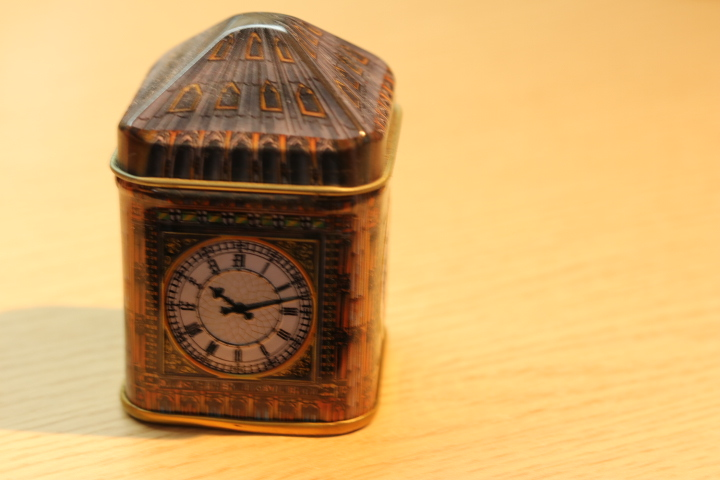Big Ben: (103, 7, 419, 445)
